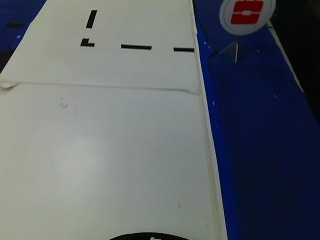company: (218, 0, 277, 35)
